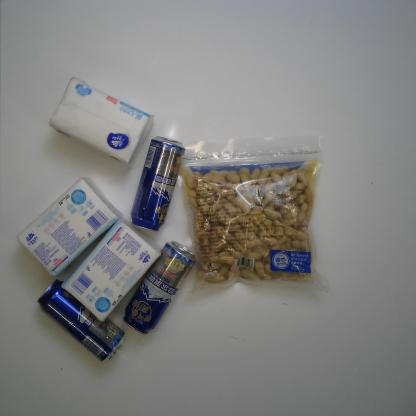Alcohol: (36, 278, 127, 364), (122, 239, 197, 336), (130, 136, 186, 232)
Dried Food: (176, 133, 331, 294)
Tissue: (15, 176, 120, 278), (60, 218, 162, 322), (48, 77, 156, 167)
